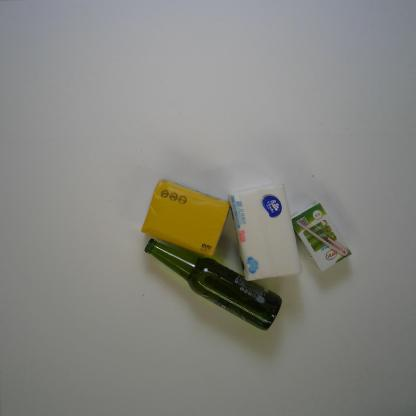Alcohol: (143, 237, 282, 332)
Milk: (291, 201, 353, 273)
Tissue: (228, 183, 304, 282), (140, 178, 231, 258)
